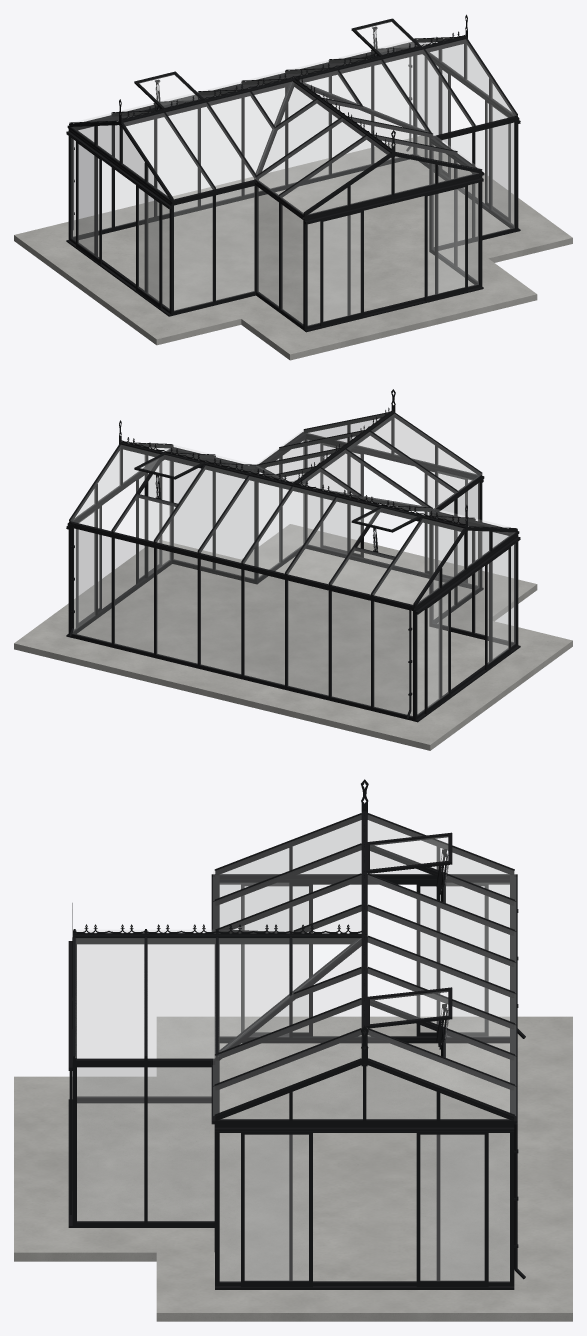
File: sg-t252-decor.glb
3 renders of one model, top to bottom at view 1: azimuth 30°, elevation 25°; view 2: azimuth 150°, elevation 25°; view 3: azimuth 270°, elevation 25°, orthographic. The views are drawn at different scales.
Visible parts, largest first — view 1: scandiglas-t252-decor; view 2: scandiglas-t252-decor; view 3: scandiglas-t252-decor.
Part boxes in pixels (left/top/right/bottom): scandiglas-t252-decor: left=14, top=14, right=572, bottom=360; scandiglas-t252-decor: left=14, top=389, right=572, bottom=750; scandiglas-t252-decor: left=14, top=779, right=572, bottom=1321.
Size of the model in its own units: 7.38 by 3.14 by 5.88.
Materials: 5 (1 with a texture image).
